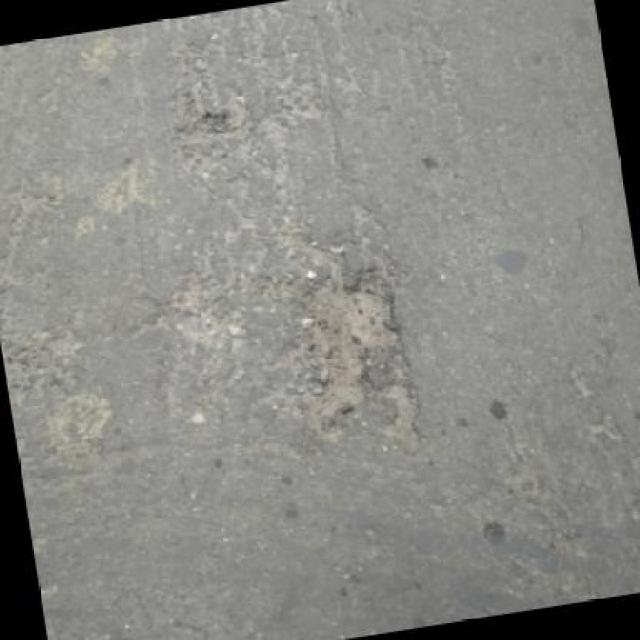pothole: (266, 261, 428, 454), (176, 108, 233, 146)
